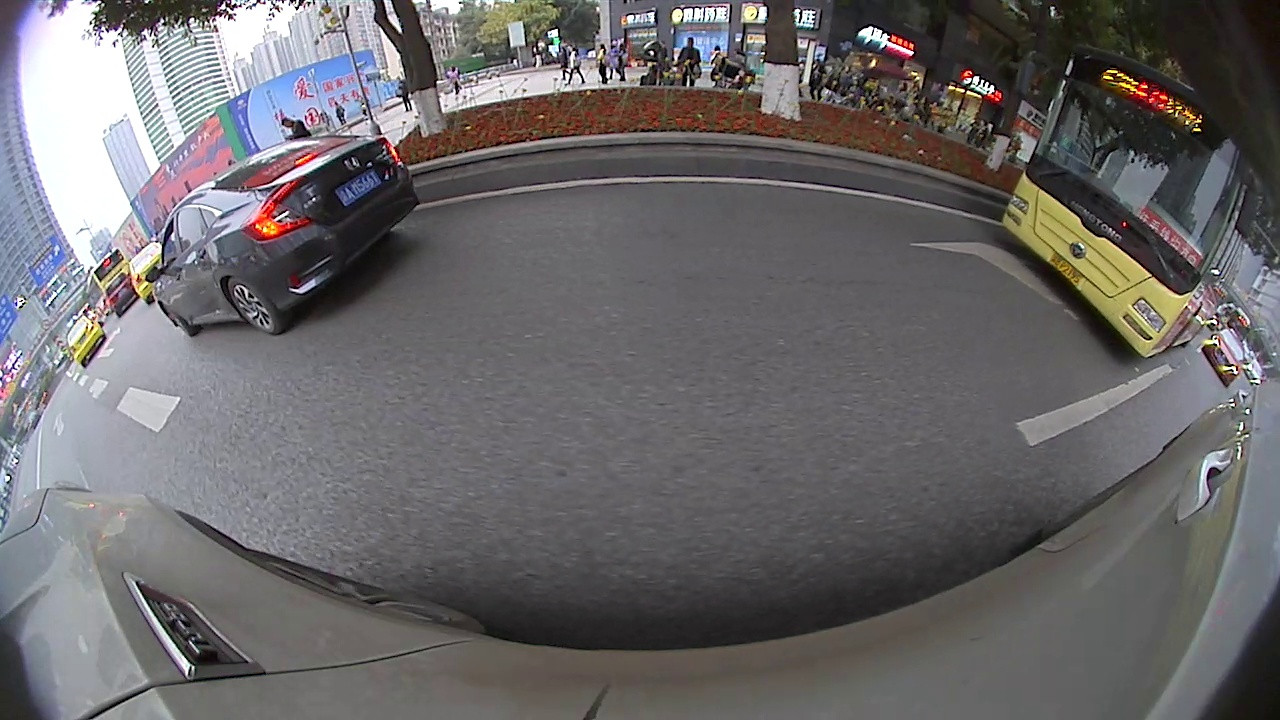bus: (996, 36, 1252, 365)
car: (145, 127, 421, 340), (124, 238, 170, 310), (1205, 326, 1248, 389), (61, 312, 107, 369)
front: (161, 302, 200, 338)
rear: (226, 278, 288, 337)
